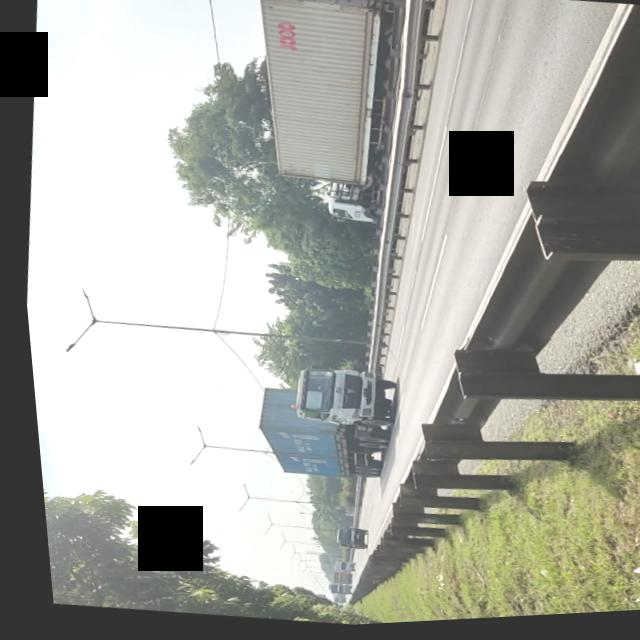Golongan V: (255, 355, 401, 491)
